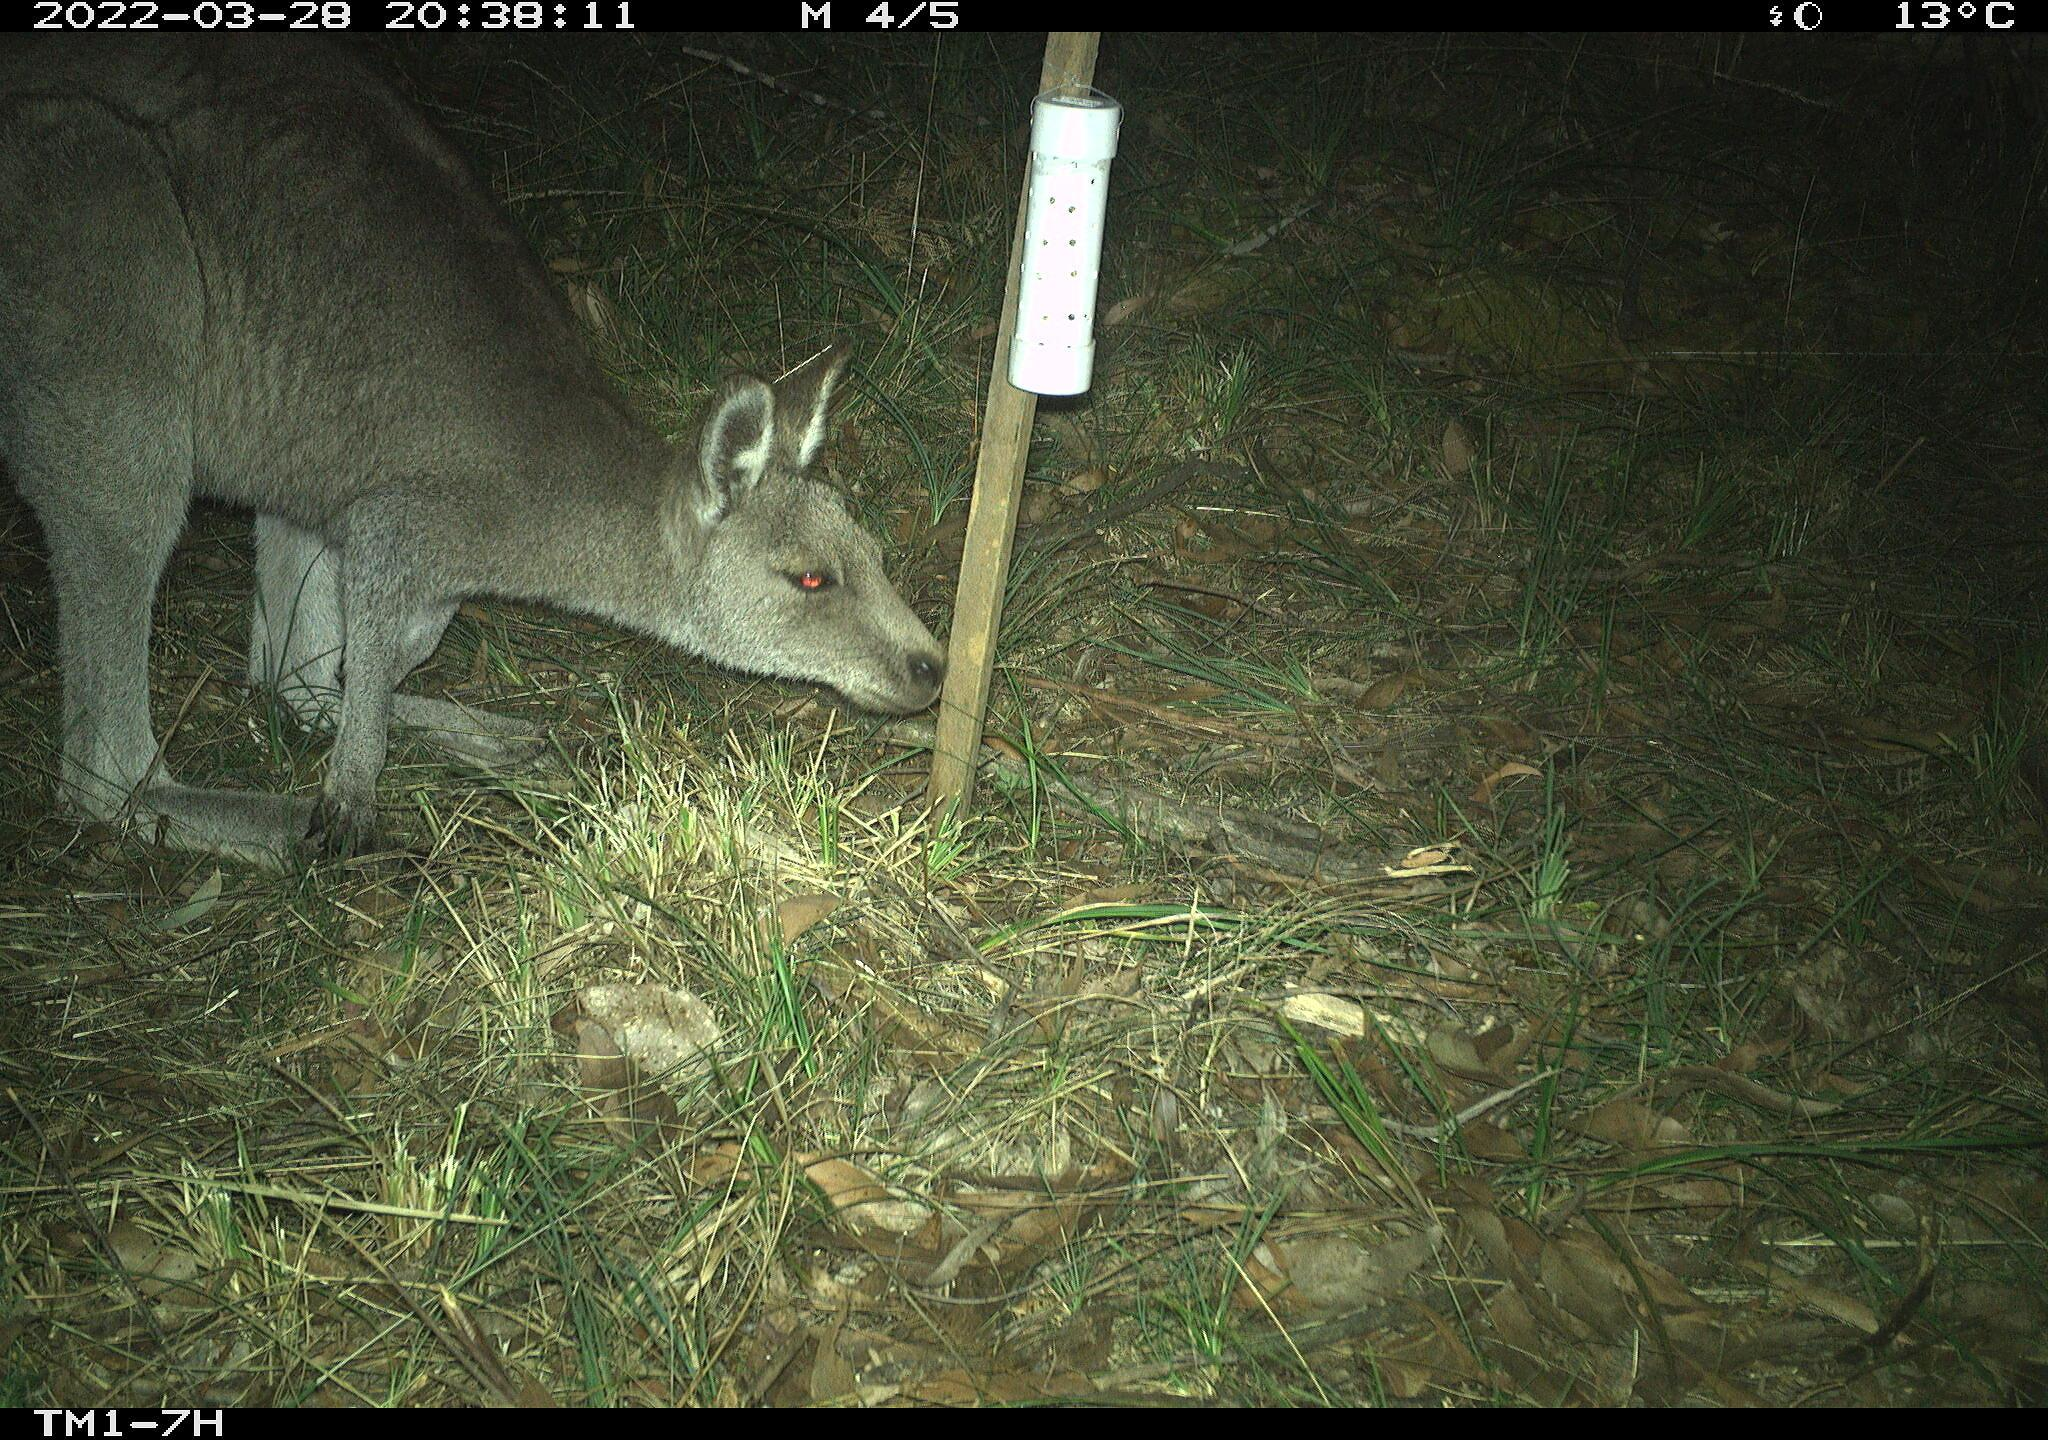Eastern grey kangaroo: (0, 34, 943, 870)
